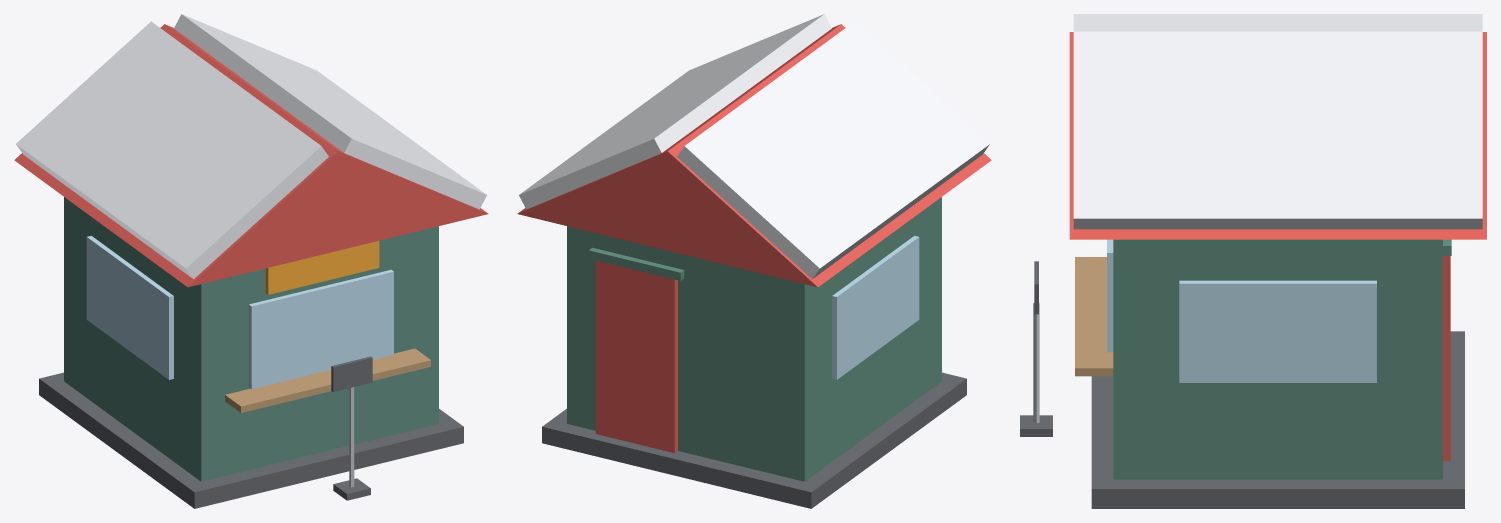
The model's file is ticket.glb.
The picture shows the model from 3 angles, left to right: view 1: azimuth 30°, elevation 25°; view 2: azimuth 150°, elevation 25°; view 3: azimuth 270°, elevation 25°; orthographic projection. The views are drawn at different scales.
Parts seen in each view (by area): view 1: ticket-office; view 2: ticket-office; view 3: ticket-office.
Boxes of the visible parts, x1,y1,x2,y2 form: ticket-office: (14,14,488,508); ticket-office: (517,14,991,508); ticket-office: (1020,14,1486,508).
Bounding box in the file's own units: 3.8 × 4.09 × 4.25.
